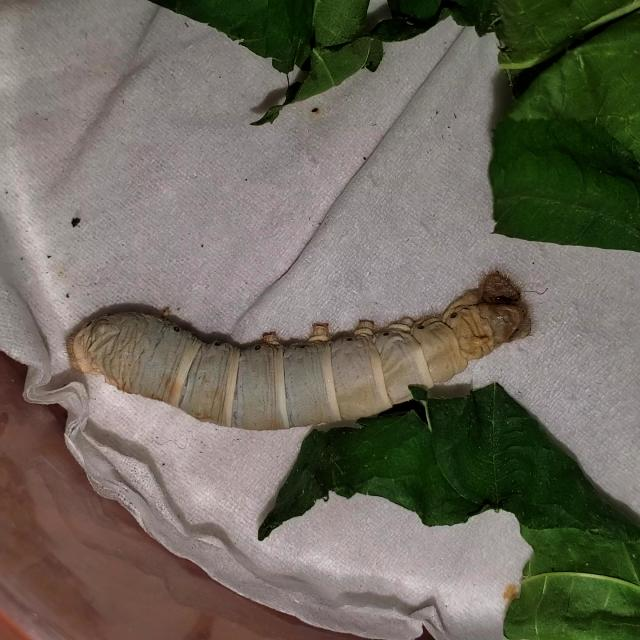Grasserie: (56, 268, 546, 444)
